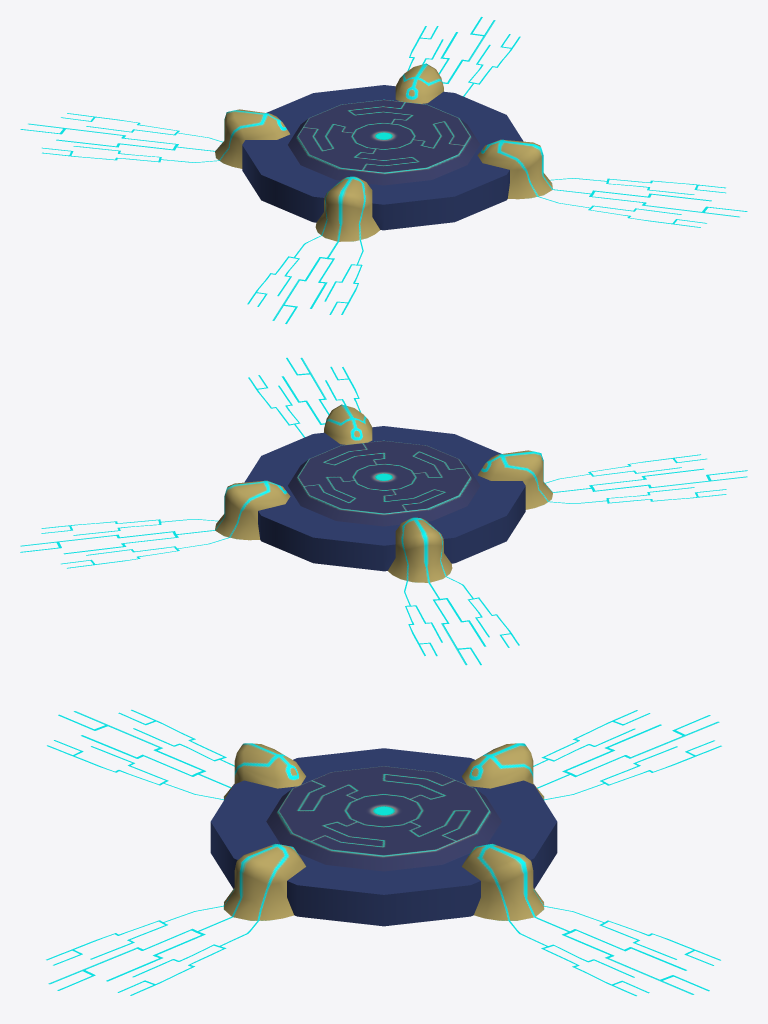
File: LevelPad_01.FBX
3 views of the same model, one above another, from view 1: azimuth 30°, elevation 25°; view 2: azimuth 150°, elevation 25°; view 3: azimuth 270°, elevation 25° (orthographic). The views are drawn at different scales.
Parts seen in each view (by area): view 1: Cylinder001; view 2: Cylinder001; view 3: Cylinder001.
Part boxes in pixels (x1,y1,x2,y2): Cylinder001: (20,16,747,324); Cylinder001: (20,357,747,665); Cylinder001: (46,709,721,996).
Bounding box in the file's own units: 157 × 12.36 × 157.
